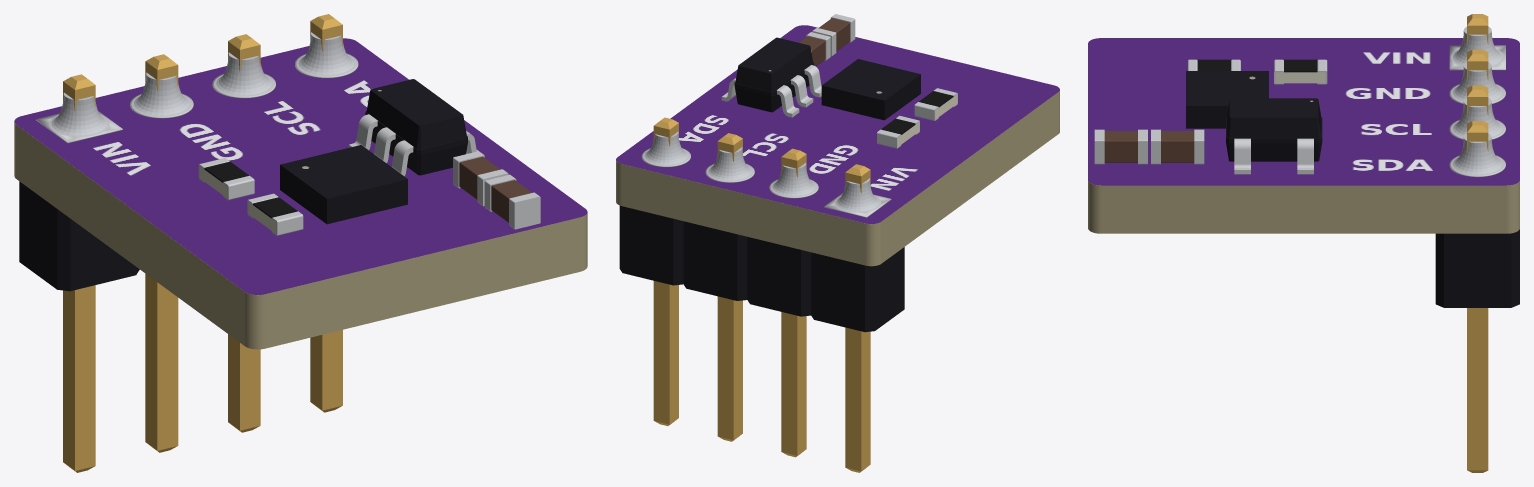
The model's file is bme280-module.glb.
3 views of the same model, side by side, from view 1: azimuth 30°, elevation 25°; view 2: azimuth 150°, elevation 25°; view 3: azimuth 270°, elevation 25° (orthographic). The views are drawn at different scales.
Visible parts, largest first — view 1: bme280-module-0, bme280-module-2, bme280-module-6, bme280-module-5, bme280-module-4, bme280-module-3, bme280-module-10, bme280-module-8, bme280-module-9; view 2: bme280-module-0, bme280-module-6, bme280-module-2, bme280-module-5, bme280-module-4, bme280-module-3, bme280-module-10, bme280-module-8, bme280-module-9; view 3: bme280-module-0, bme280-module-2, bme280-module-6, bme280-module-5, bme280-module-4, bme280-module-3, bme280-module-10, bme280-module-8, bme280-module-9.
Part boxes in pixels (x1=…): bme280-module-0: x1=14, y1=38, x2=587, y2=294; bme280-module-2: x1=14, y1=122, x2=587, y2=349; bme280-module-6: x1=19, y1=79, x2=467, y2=291; bme280-module-5: x1=63, y1=14, x2=342, y2=472; bme280-module-4: x1=49, y1=32, x2=356, y2=136; bme280-module-3: x1=36, y1=53, x2=540, y2=235; bme280-module-10: x1=459, y1=156, x2=531, y2=222; bme280-module-8: x1=204, y1=161, x2=297, y2=218; bme280-module-9: x1=199, y1=166, x2=276, y2=233; bme280-module-0: x1=616, y1=25, x2=1059, y2=223; bme280-module-6: x1=619, y1=37, x2=920, y2=332; bme280-module-2: x1=616, y1=90, x2=1059, y2=266; bme280-module-5: x1=653, y1=117, x2=870, y2=472; bme280-module-4: x1=642, y1=132, x2=881, y2=212; bme280-module-3: x1=641, y1=14, x2=957, y2=217; bme280-module-10: x1=799, y1=18, x2=849, y2=66; bme280-module-8: x1=881, y1=91, x2=953, y2=134; bme280-module-9: x1=897, y1=94, x2=957, y2=146; bme280-module-0: x1=1088, y1=38, x2=1519, y2=185; bme280-module-2: x1=1088, y1=181, x2=1519, y2=233; bme280-module-6: x1=1186, y1=71, x2=1519, y2=307; bme280-module-5: x1=1467, y1=14, x2=1488, y2=472; bme280-module-4: x1=1450, y1=26, x2=1504, y2=175; bme280-module-3: x1=1094, y1=45, x2=1505, y2=177; bme280-module-10: x1=1104, y1=131, x2=1194, y2=162; bme280-module-8: x1=1197, y1=59, x2=1317, y2=72; bme280-module-9: x1=1275, y1=72, x2=1325, y2=83.
Bounding box in the file's own units: 10.5 × 11.69 × 13.
Materials: 11 (2 with a texture image).
